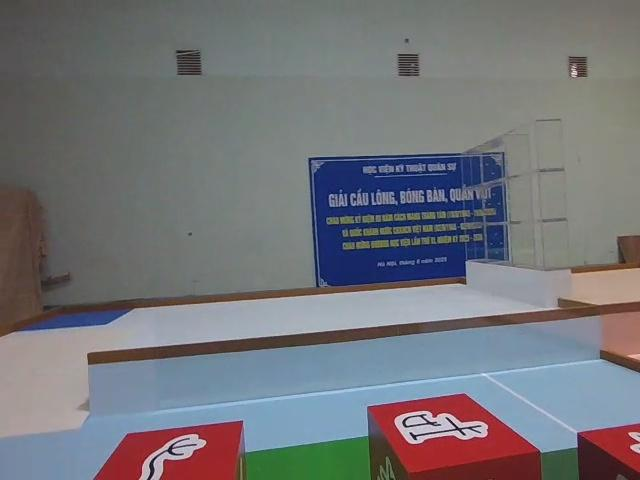R2 Real: (364, 389, 543, 480), (94, 417, 251, 480)
